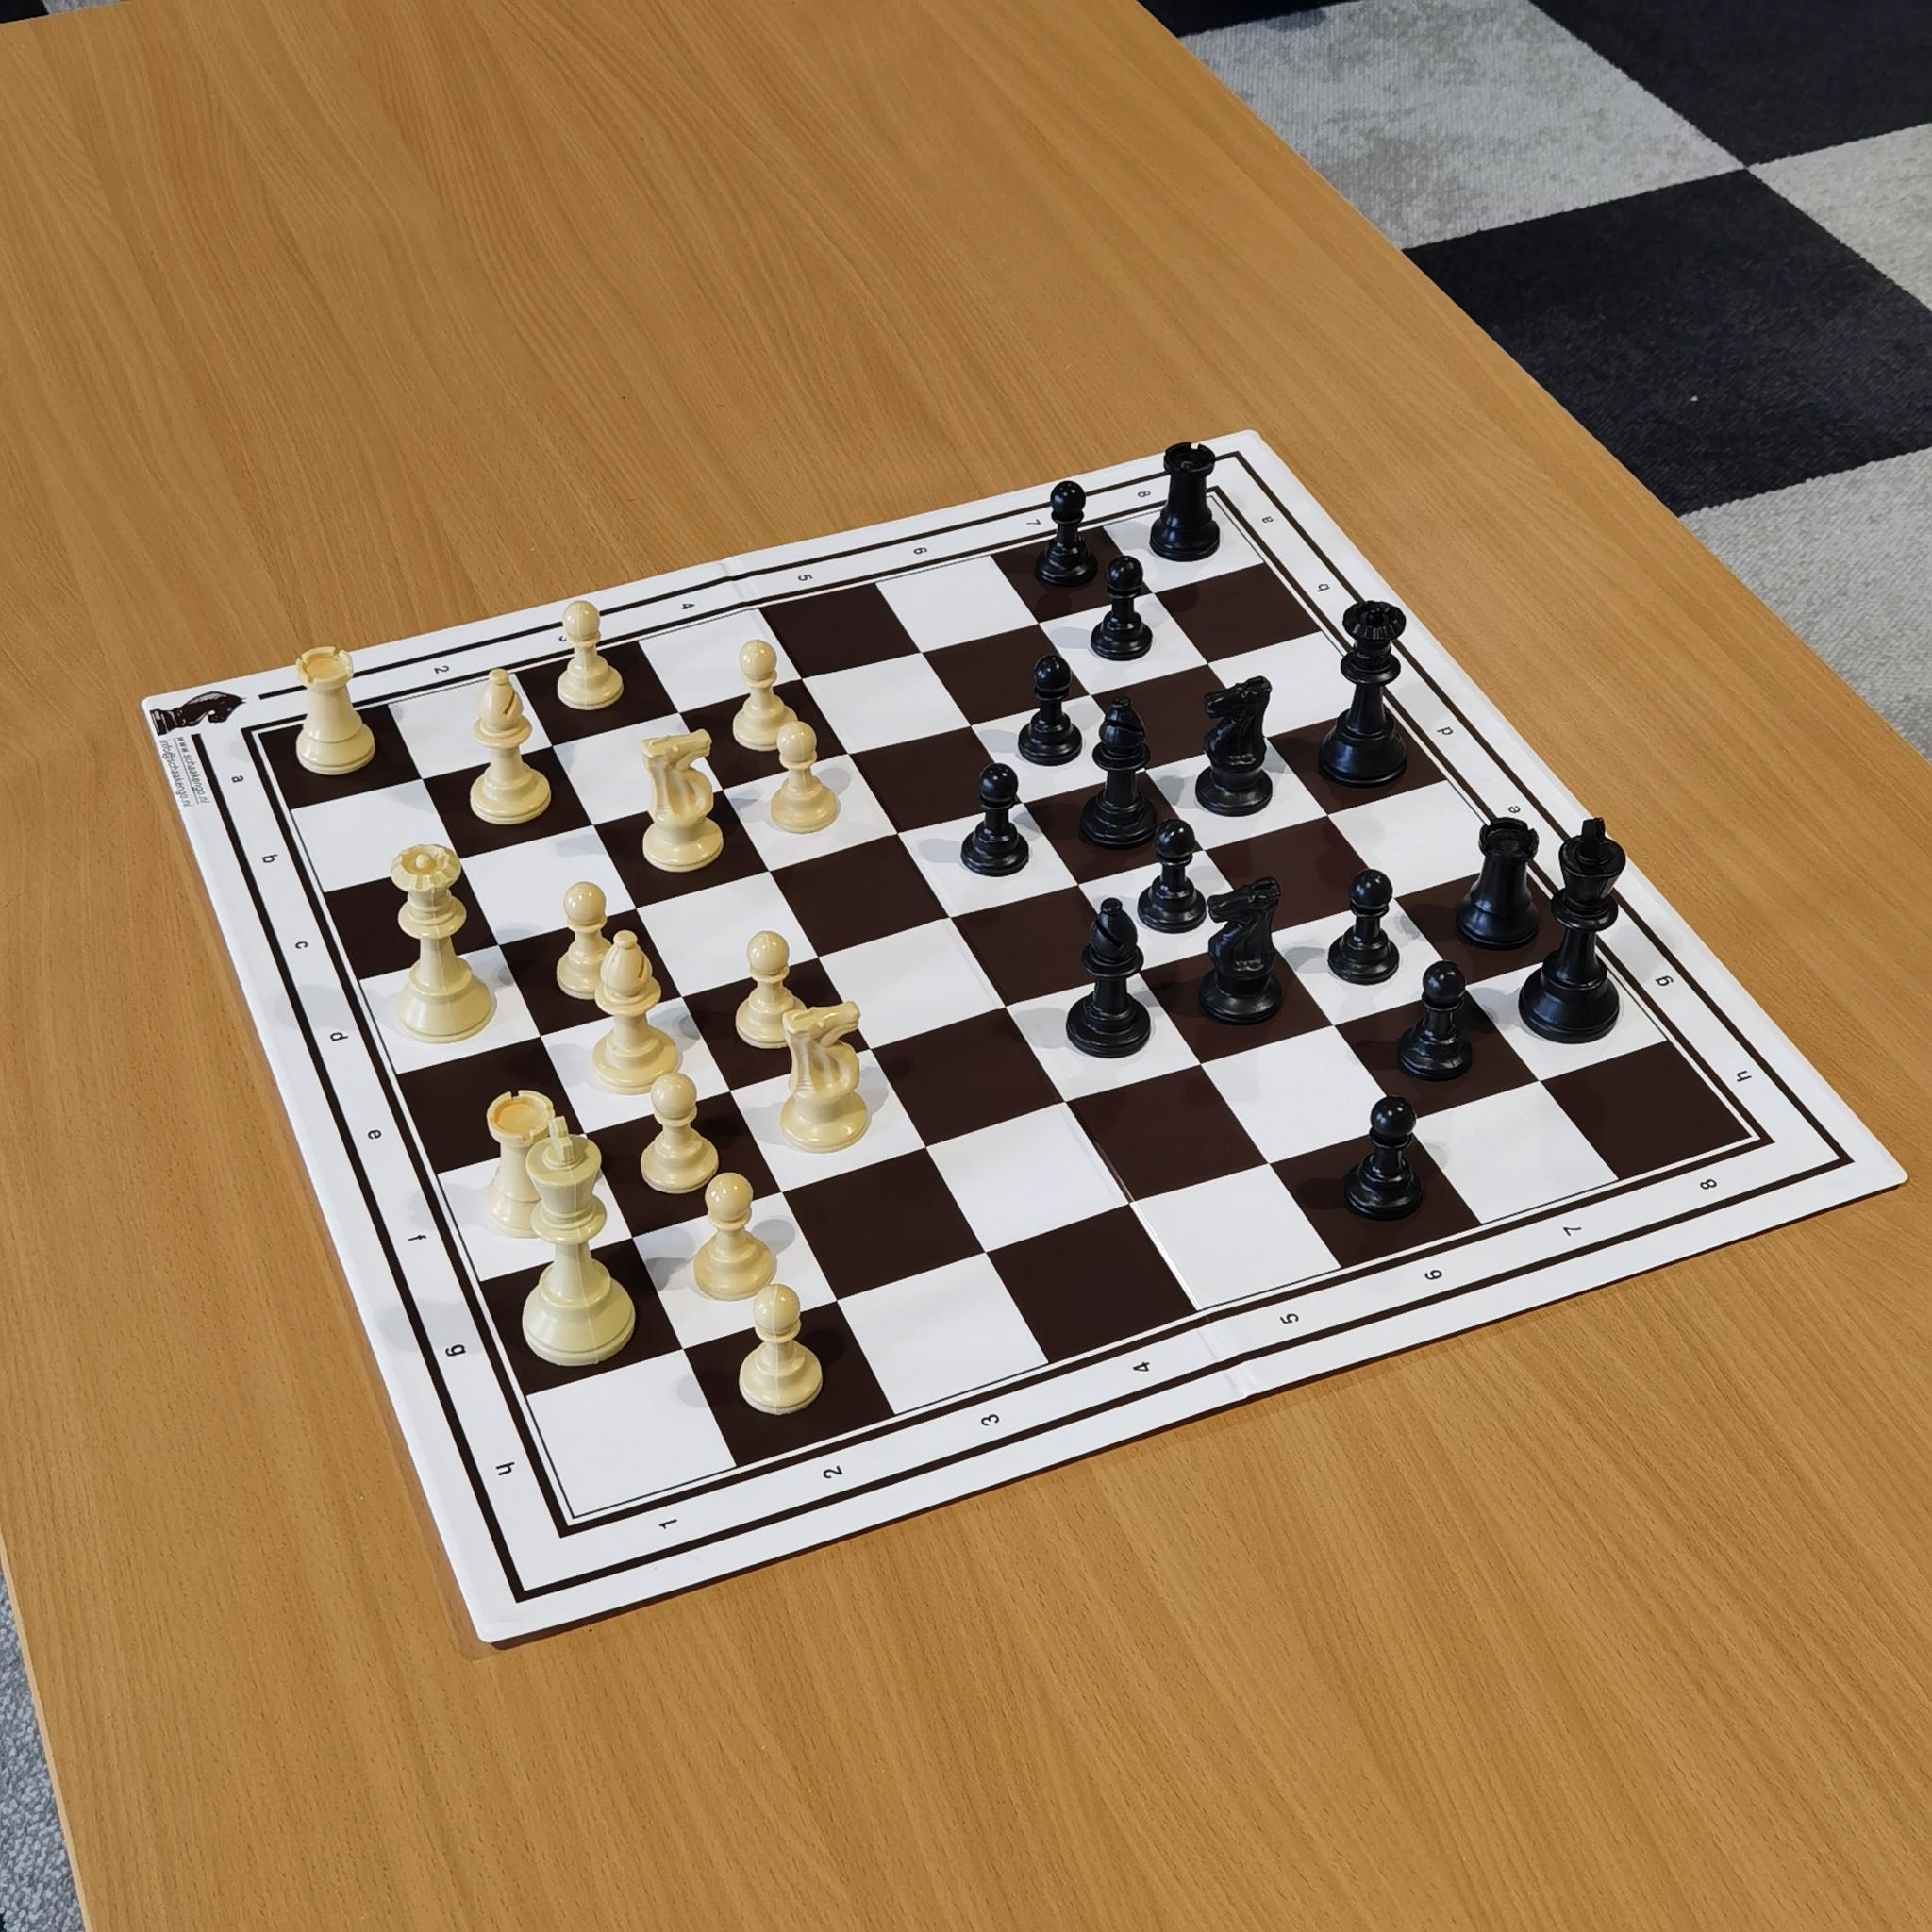corners: (226, 713, 292, 763), (552, 1488, 600, 1545), (1725, 1109, 1776, 1159), (1182, 479, 1235, 518)
eight: (1690, 1159, 1736, 1210), (1136, 481, 1162, 510)
one: (640, 1499, 697, 1548), (306, 674, 350, 717)
